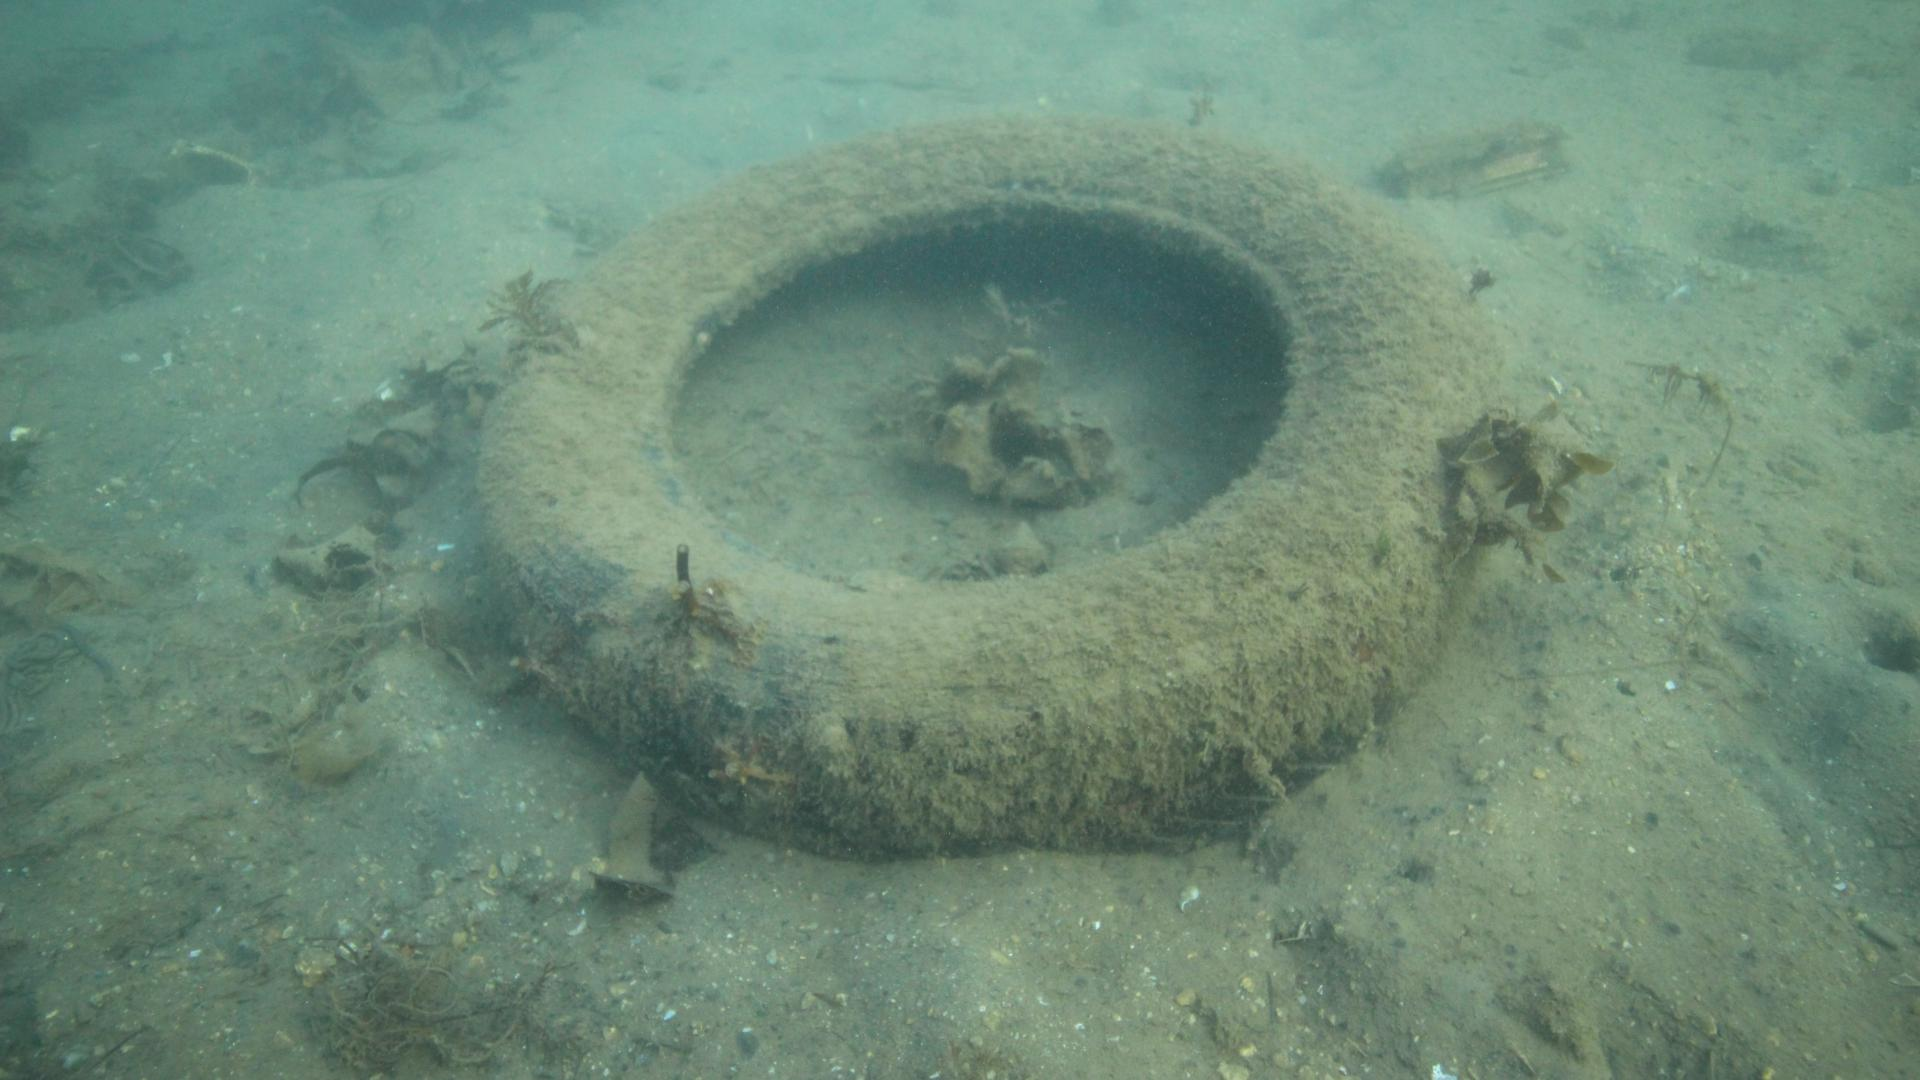tire: (471, 109, 1511, 862)
